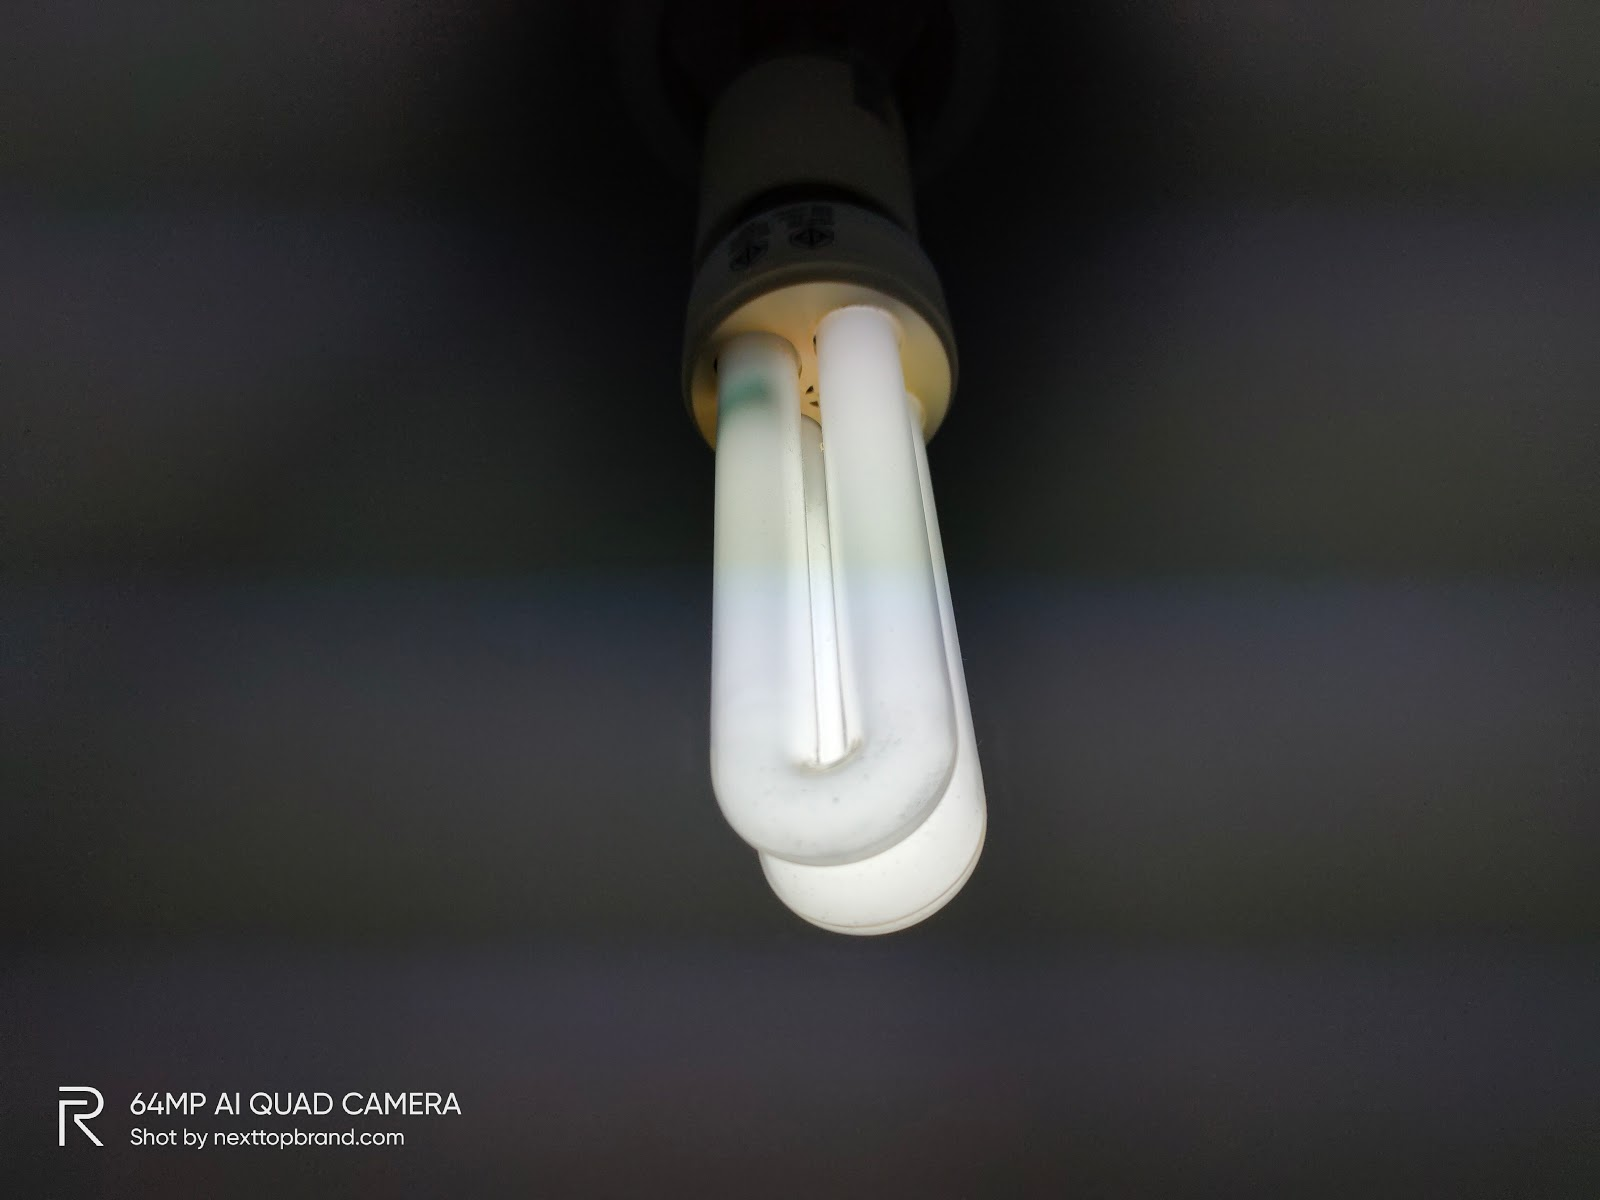Light_bulb: (677, 281, 1007, 950)
